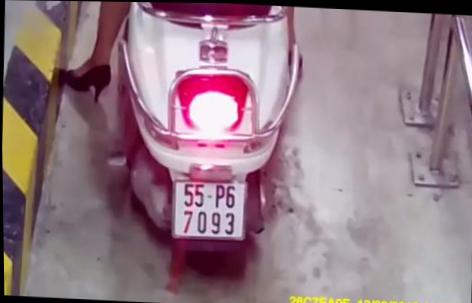LP: (166, 173, 250, 242)
